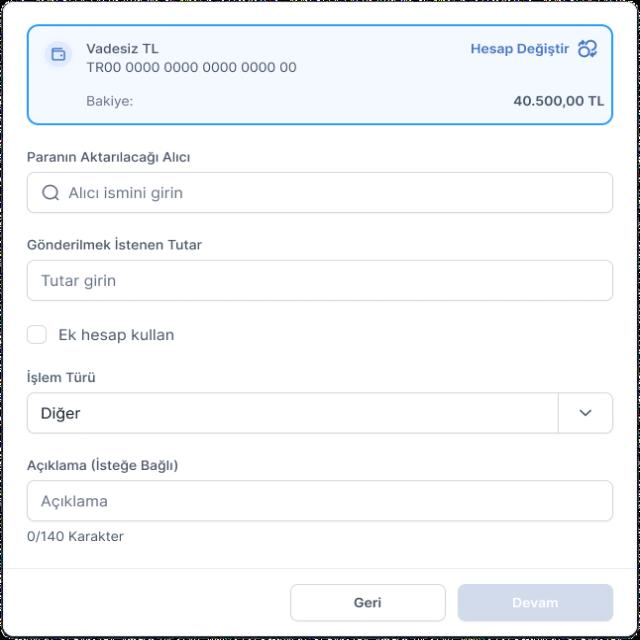QLabel: (18, 454, 184, 478), (85, 59, 298, 76), (22, 148, 194, 168), (24, 236, 206, 254), (506, 91, 606, 112), (467, 39, 570, 59), (23, 366, 100, 386), (81, 41, 162, 57), (82, 92, 138, 110), (508, 593, 564, 610), (350, 592, 385, 611)
VBtn: (292, 582, 447, 623), (457, 582, 613, 622), (460, 33, 607, 67)
VCard: (0, 0, 640, 639), (27, 24, 613, 126)
VCheckbox: (26, 391, 614, 434), (22, 322, 180, 349)
VDivider: (2, 565, 635, 573)
VIcon: (40, 41, 74, 68), (574, 38, 600, 60)
VTextField: (26, 480, 615, 542), (27, 170, 614, 213), (27, 260, 613, 302)
